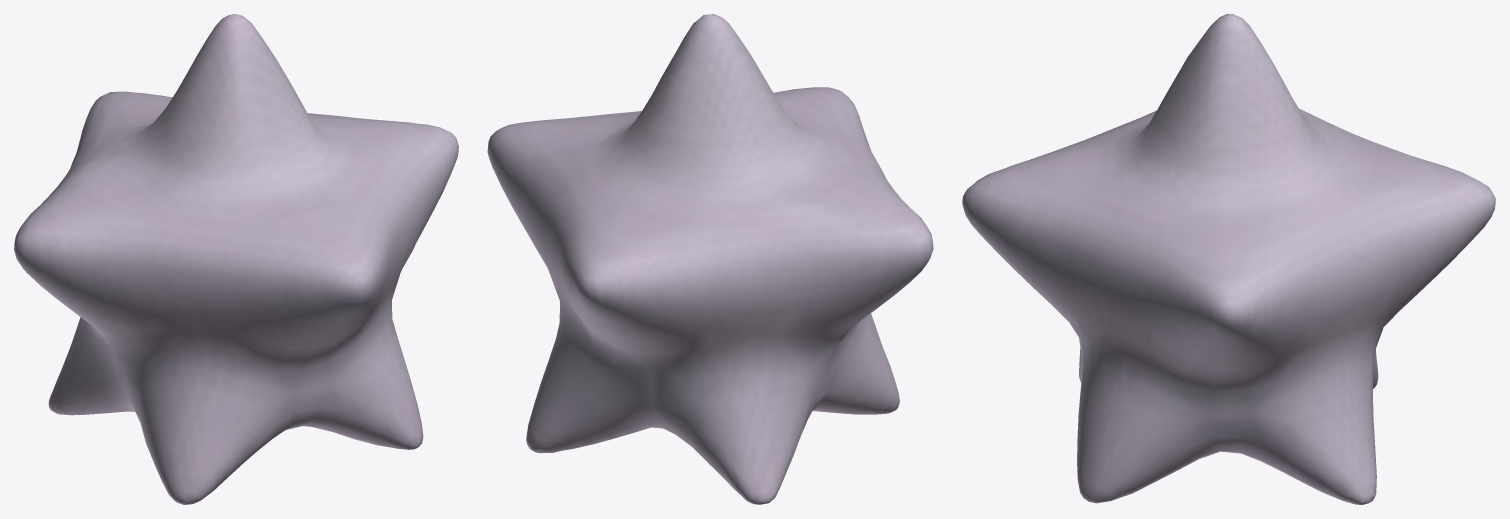
Rendered from star.glb.
3 views of the same model, side by side, from view 1: azimuth 30°, elevation 25°; view 2: azimuth 150°, elevation 25°; view 3: azimuth 270°, elevation 25° (orthographic). The views are drawn at different scales.
Parts seen in each view (by area): view 1: mesh; view 2: mesh; view 3: mesh.
Boxes of the visible parts, x1,y1,x2,y2 form: mesh: [14, 14, 458, 504]; mesh: [487, 14, 933, 504]; mesh: [962, 14, 1495, 504].
Size of the model in its own units: 0.9898 by 0.8922 by 0.9981.
Materials: 1 (1 with a texture image).
